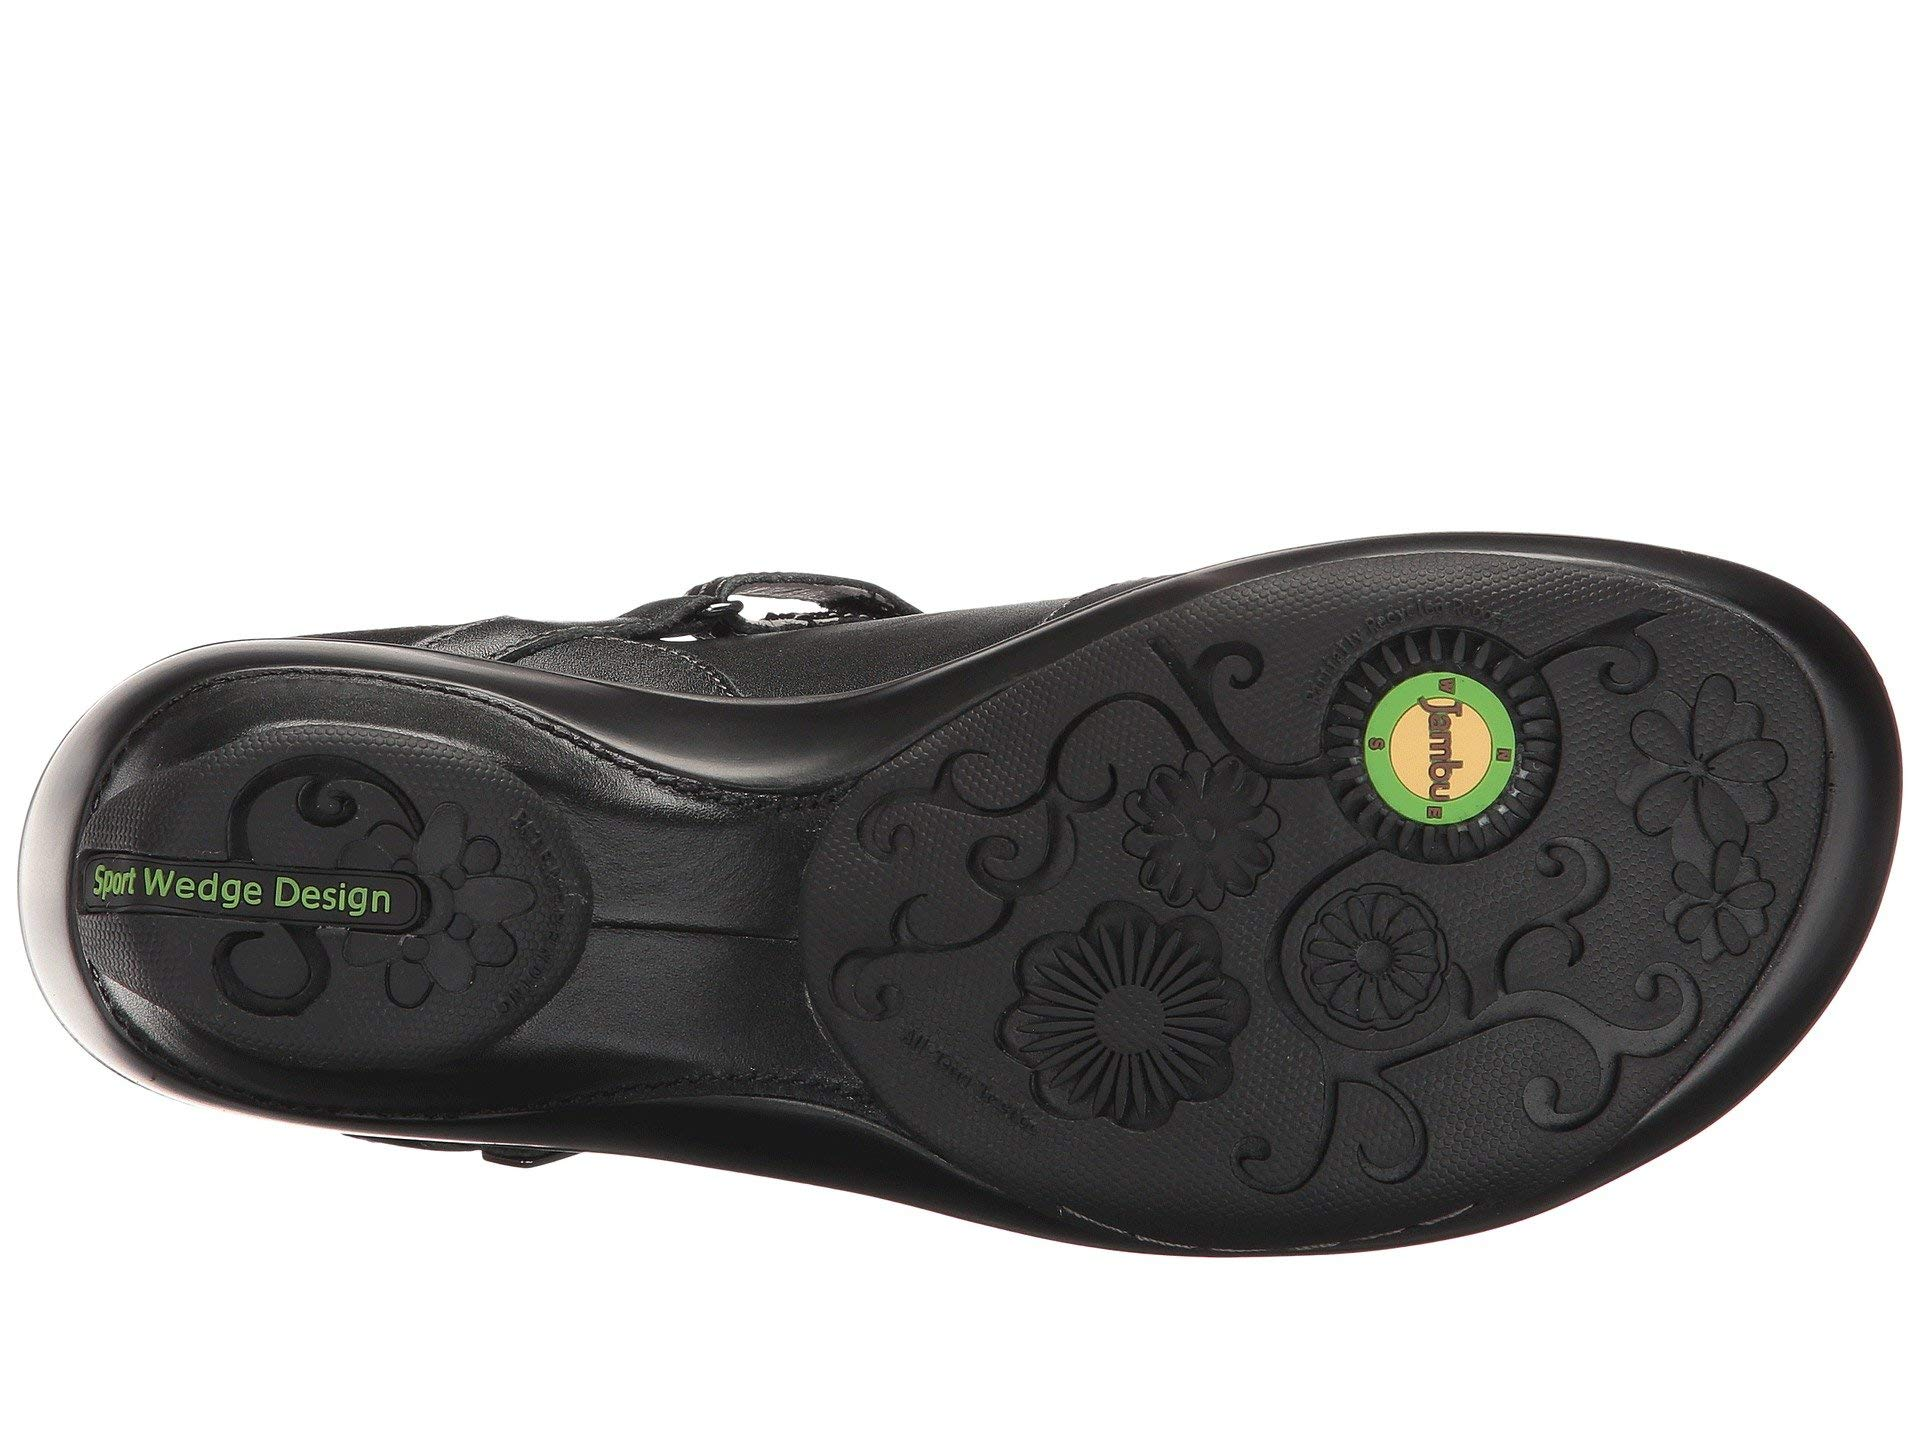circle: (1312, 604, 1559, 858), (1014, 877, 1246, 1144), (82, 858, 417, 936), (1296, 871, 1448, 1039)
quad: (1312, 604, 1559, 858), (1296, 871, 1448, 1039)
star: (1014, 877, 1246, 1144), (1618, 664, 1801, 970)
text: (1312, 604, 1559, 858), (82, 858, 417, 936)
triangle: (1312, 604, 1559, 858)
